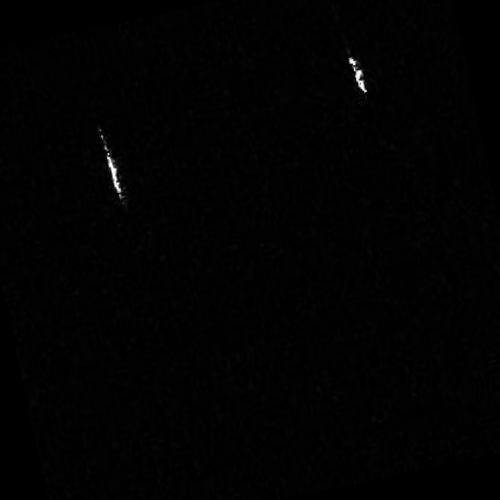ship: (101, 138, 123, 203), (345, 52, 368, 94)
